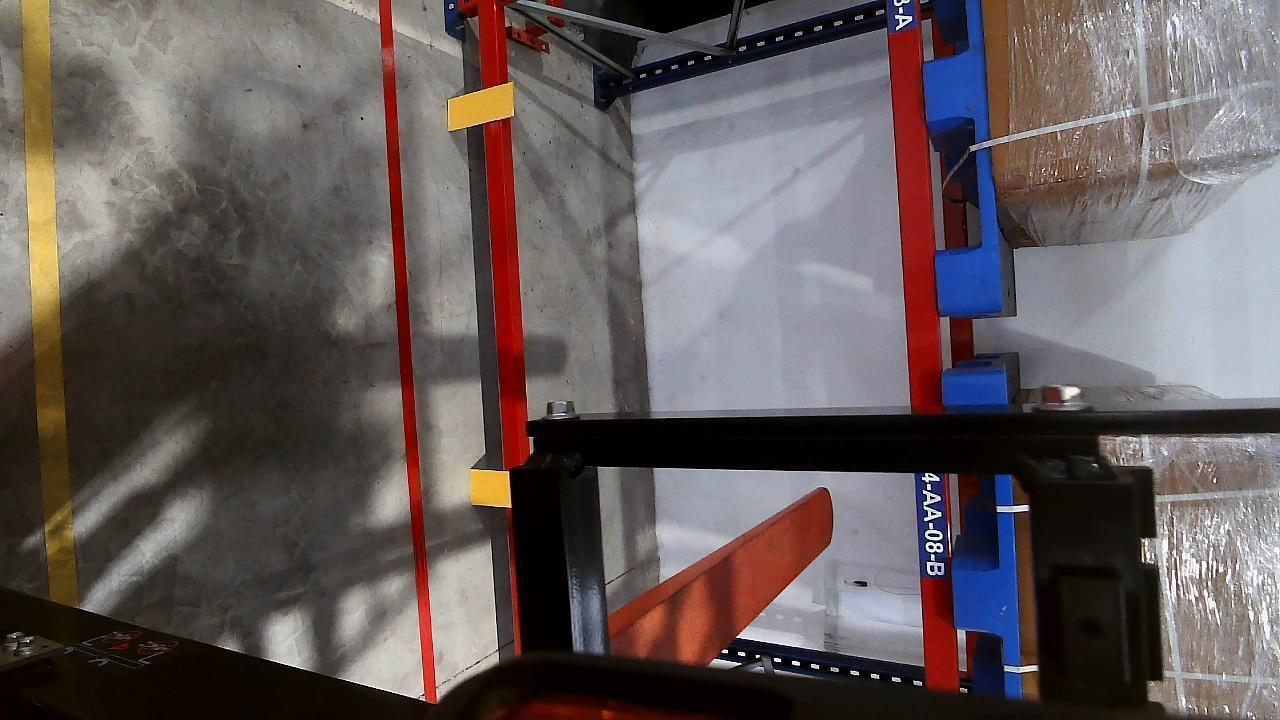red_line: (385, 0, 434, 705)
yellow_line: (17, 0, 74, 602)
